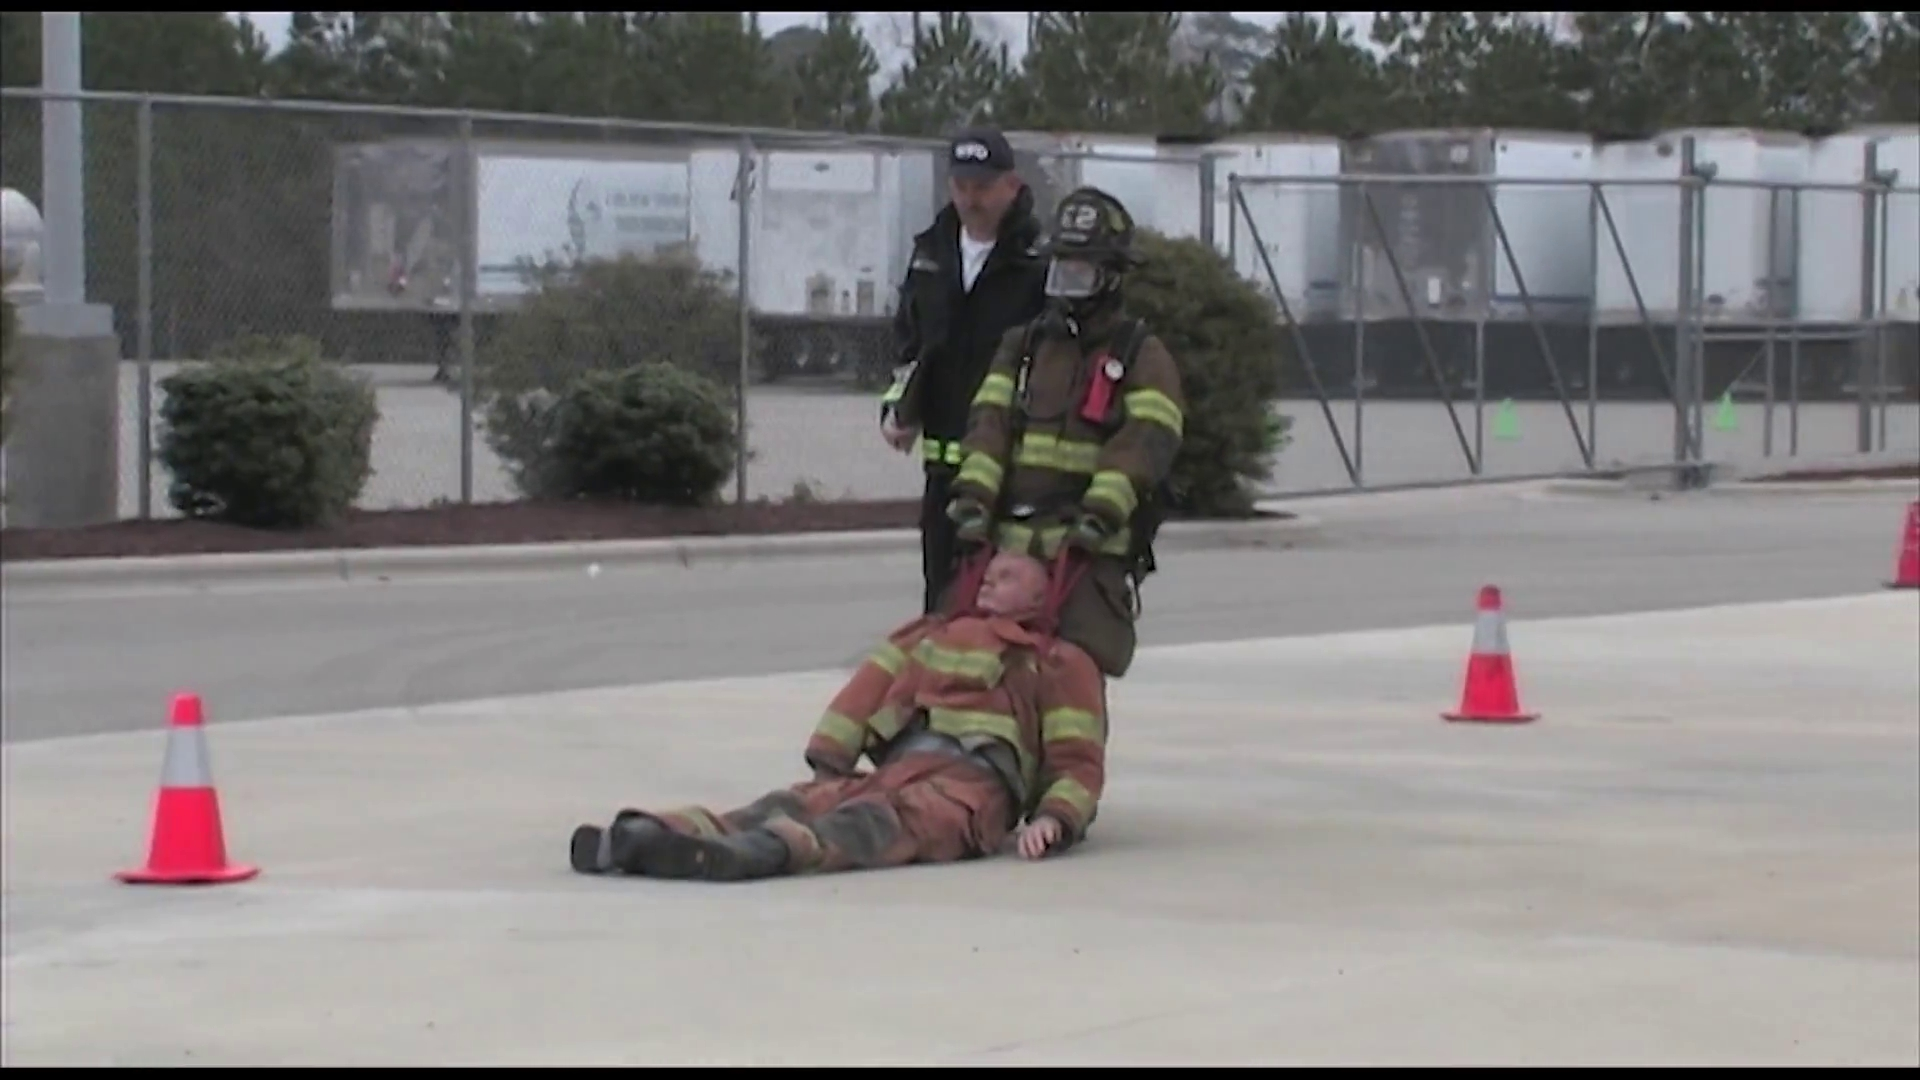person: (573, 554, 1108, 884), (949, 190, 1182, 672), (881, 129, 1052, 606)
